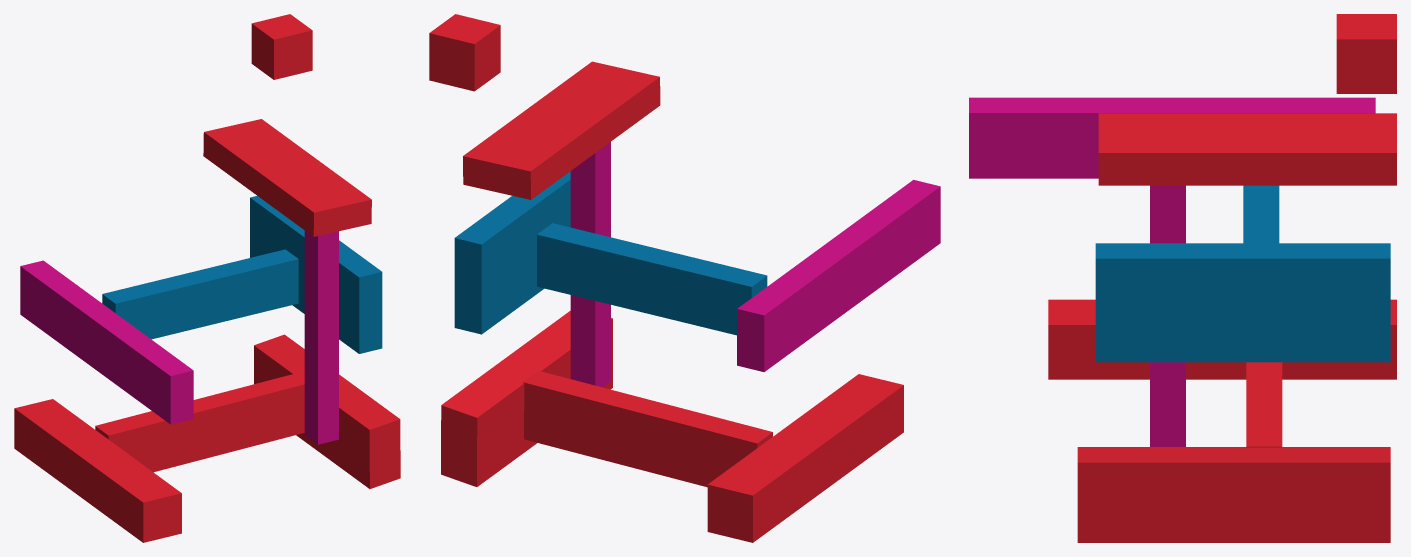
Rendered from tinker.obj.
The picture shows the model from 3 angles, left to right: view 1: azimuth 30°, elevation 25°; view 2: azimuth 150°, elevation 25°; view 3: azimuth 270°, elevation 25°; orthographic projection. The views are drawn at different scales.
Visible parts, largest first — view 1: group_0_15277357, group_0_14093196, group_0_30377; view 2: group_0_15277357, group_0_30377, group_0_14093196; view 3: group_0_15277357, group_0_30377, group_0_14093196.
Boxes of the visible parts, x1,y1,x2,y2 form: group_0_15277357: (14,14,400,542); group_0_14093196: (20,231,338,444); group_0_30377: (102,196,382,353); group_0_15277357: (429,14,903,542); group_0_30377: (454,171,767,335); group_0_14093196: (570,142,940,387); group_0_15277357: (1048,14,1396,542); group_0_30377: (1095,185,1390,362); group_0_14093196: (969,97,1375,446).
Size of the model in its own units: 144 by 188 by 142.
